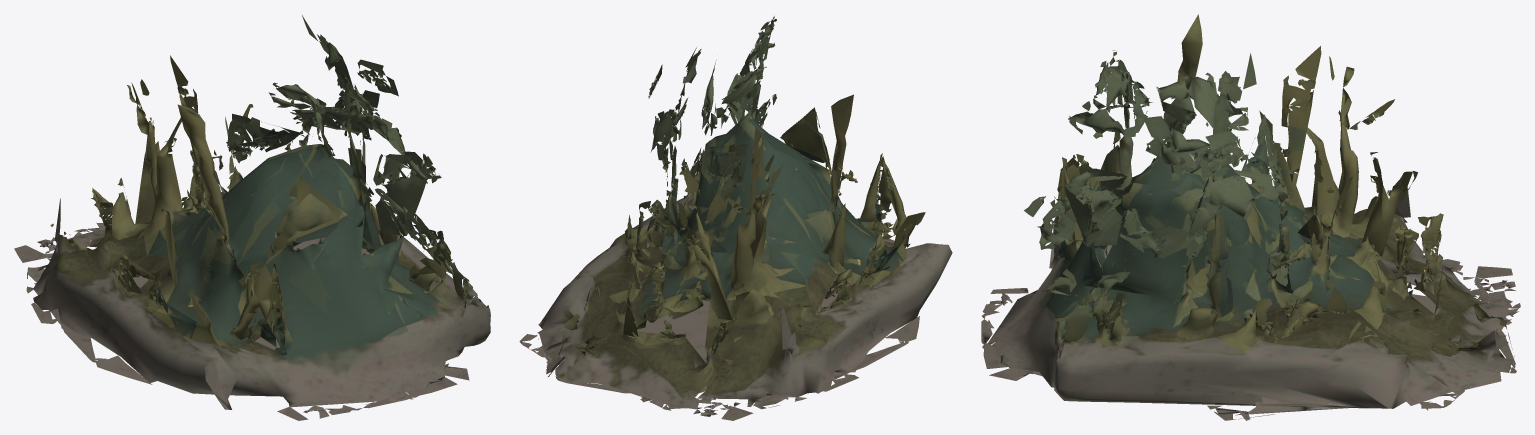
File: SM_Vegetacion_BancalJardin_01.fbx
3 views of the same model, side by side, from view 1: azimuth 30°, elevation 25°; view 2: azimuth 150°, elevation 25°; view 3: azimuth 270°, elevation 25° (orthographic). The views are drawn at different scales.
Parts seen in each view (by area): view 1: SM_Vegetacion_BancalJardin_01; view 2: SM_Vegetacion_BancalJardin_01; view 3: SM_Vegetacion_BancalJardin_01.
Boxes of the visible parts, x1,y1,x2,y2 form: SM_Vegetacion_BancalJardin_01: (14, 15, 490, 420); SM_Vegetacion_BancalJardin_01: (519, 16, 952, 420); SM_Vegetacion_BancalJardin_01: (981, 14, 1520, 420).
Bounding box in the file's own units: 0.7947 × 0.6232 × 0.9961.
1 material, 1 textured.
